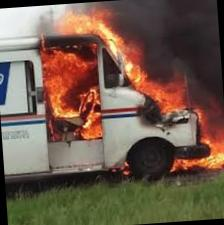Fire: (37, 0, 224, 181)
Smoke: (97, 0, 223, 124)
